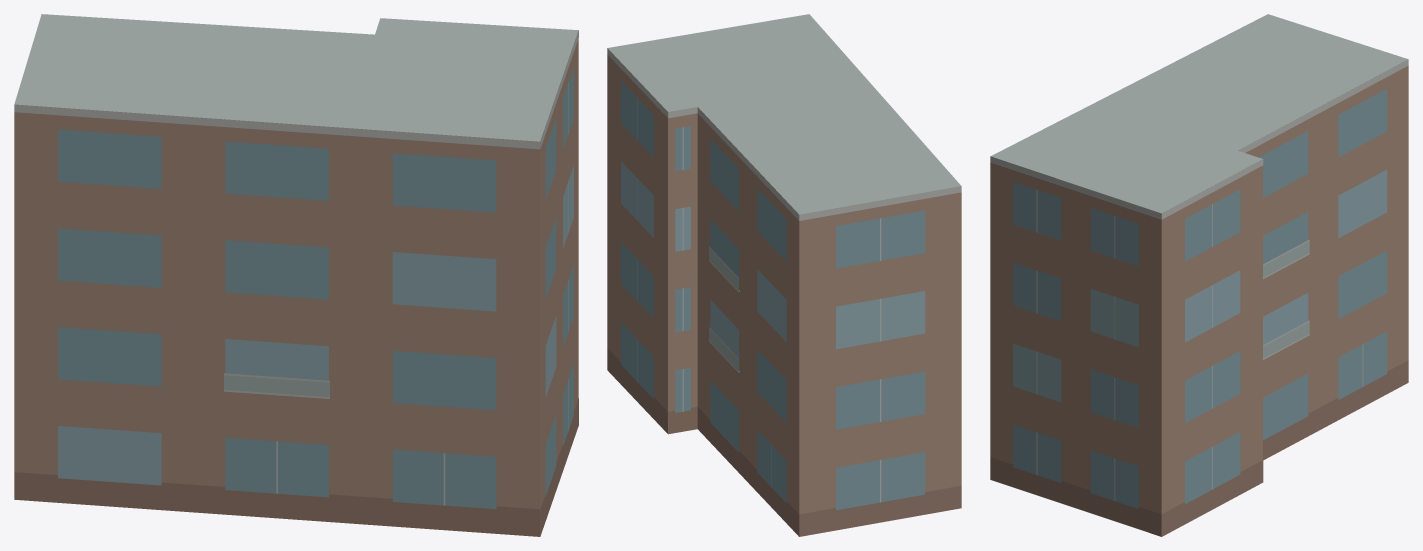
The model's file is survey-upis-32830854.glb.
3 views of the same model, side by side, from view 1: azimuth 30°, elevation 25°; view 2: azimuth 150°, elevation 25°; view 3: azimuth 270°, elevation 25° (orthographic). The views are drawn at different scales.
Visible parts, largest first — view 1: survey-upis-32830854.tmp; view 2: survey-upis-32830854.tmp; view 3: survey-upis-32830854.tmp.
Part boxes in pixels (x1=…): survey-upis-32830854.tmp: x1=14, y1=14, x2=578, y2=536; survey-upis-32830854.tmp: x1=607, y1=14, x2=961, y2=536; survey-upis-32830854.tmp: x1=990, y1=14, x2=1408, y2=536.
Bounding box in the file's own units: 16.54 × 12.5 × 14.65.
